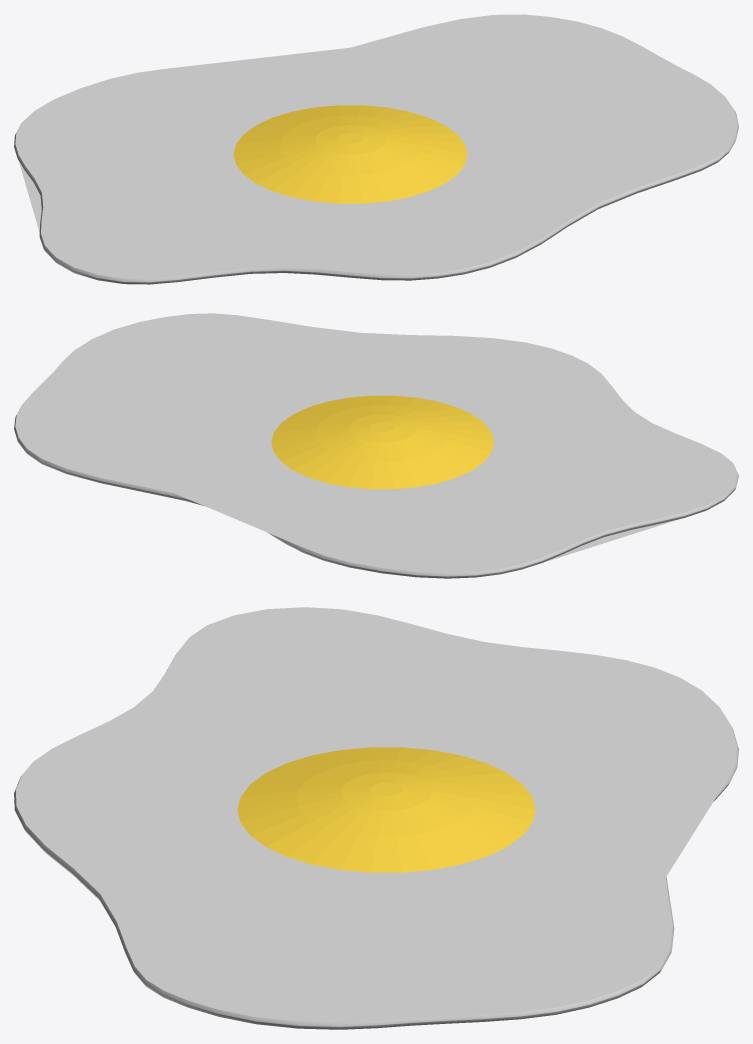
Rendered from MunaMattoVärit.fbx.
The picture shows the model from 3 angles, top to bottom: view 1: azimuth 30°, elevation 25°; view 2: azimuth 150°, elevation 25°; view 3: azimuth 270°, elevation 25°; orthographic projection. The views are drawn at different scales.
Parts seen in each view (by area): view 1: muna; view 2: muna; view 3: muna.
Boxes of the visible parts, x1,y1,x2,y2 form: muna: (14, 14, 738, 284); muna: (14, 313, 738, 578); muna: (14, 607, 738, 1029).
Bounding box in the file's own units: 3.96 × 0.1232 × 2.91.
